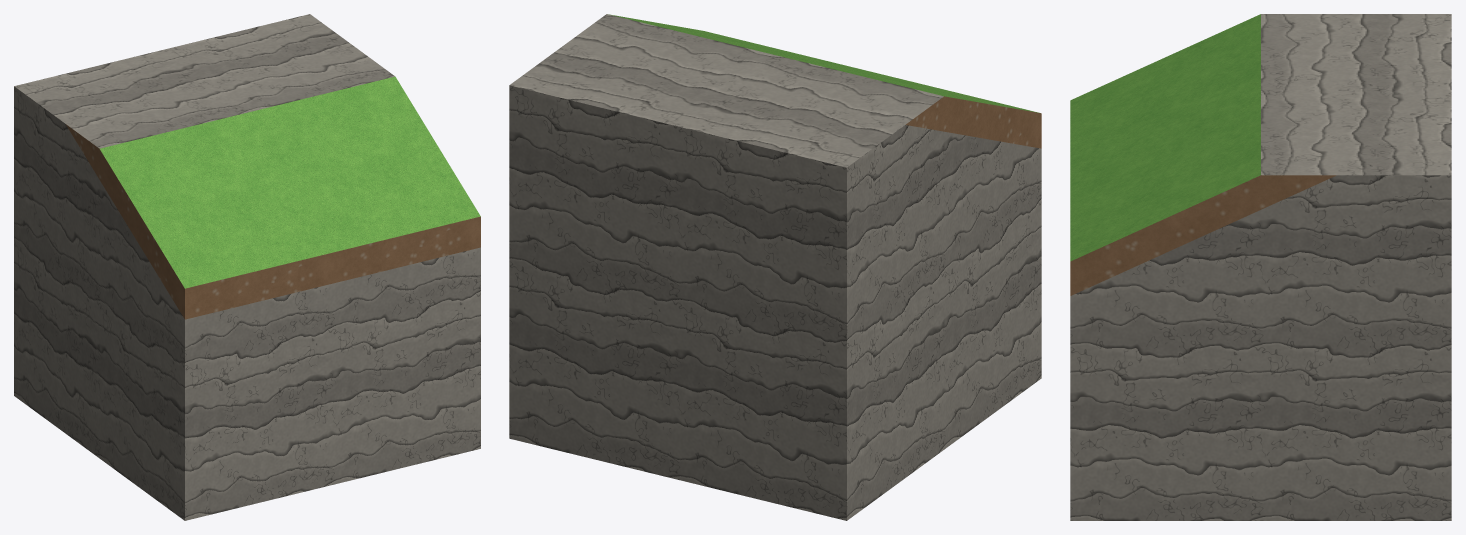
File: Slope_UtoL_Straight_Bottom.fbx
3 renders of one model, left to right at view 1: azimuth 30°, elevation 25°; view 2: azimuth 150°, elevation 25°; view 3: azimuth 270°, elevation 25°, orthographic. The views are drawn at different scales.
Parts seen in each view (by area): view 1: Slope_UtoL_Straight_Bottom; view 2: Slope_UtoL_Straight_Bottom; view 3: Slope_UtoL_Straight_Bottom.
Part boxes in pixels (x1=…): Slope_UtoL_Straight_Bottom: x1=14, y1=14, x2=480, y2=520; Slope_UtoL_Straight_Bottom: x1=509, y1=14, x2=1041, y2=520; Slope_UtoL_Straight_Bottom: x1=1070, y1=14, x2=1451, y2=520.
Size of the model in its own units: 3 by 3 by 3.
3 materials, 3 textured.
